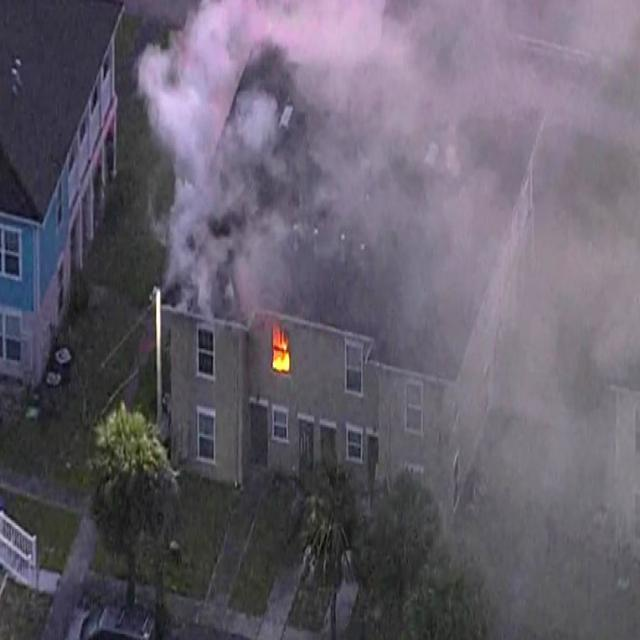Fire: (278, 351, 288, 368)
Smoke: (310, 6, 344, 54), (176, 92, 198, 144)
